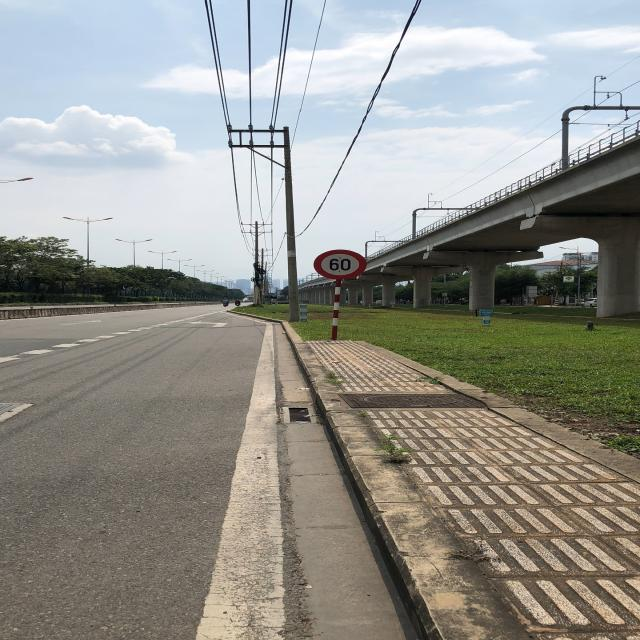Bien bao toc do toi da cho phep: (314, 246, 365, 283)
